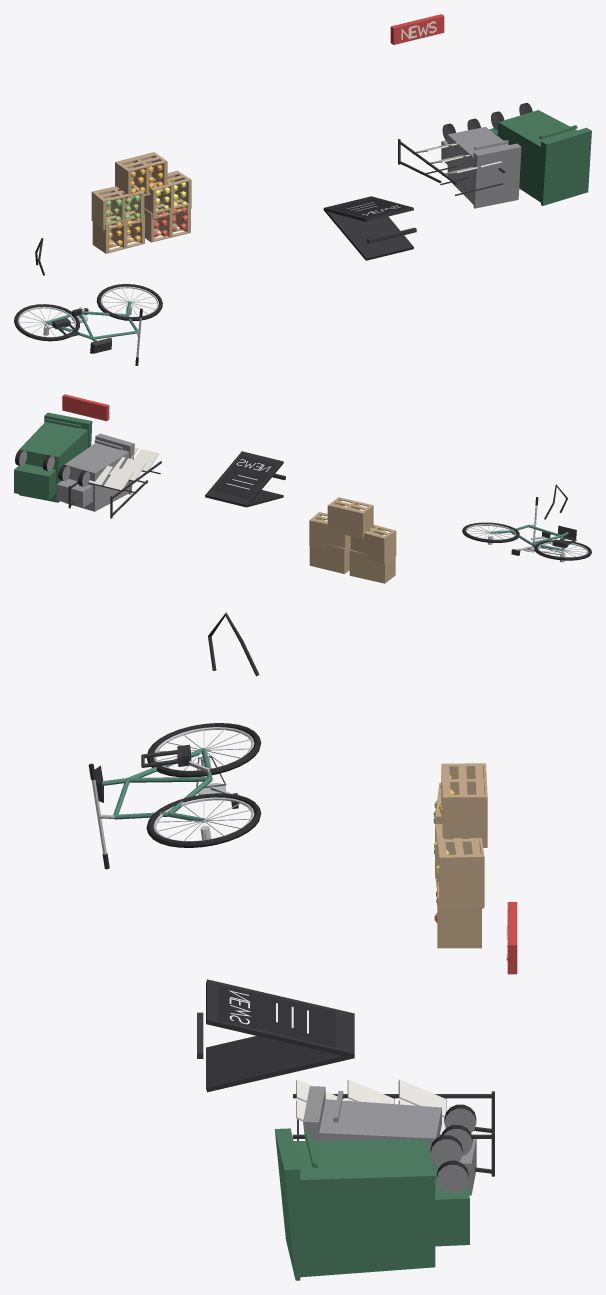
File: exterior_shop_props.fbx
3 views of the same model, one above another, from view 1: azimuth 30°, elevation 25°; view 2: azimuth 150°, elevation 25°; view 3: azimuth 270°, elevation 25° (orthographic). The views are drawn at different scales.
Parts seen in each view (by area): view 1: exterior_shop_props; view 2: exterior_shop_props; view 3: exterior_shop_props.
Boxes of the visible parts, x1,y1,x2,y2 form: exterior_shop_props: (14,14,591,365); exterior_shop_props: (14,394,591,583); exterior_shop_props: (88,612,517,1280).
Size of the model in its own units: 7.5 by 1.95 by 2.68.
